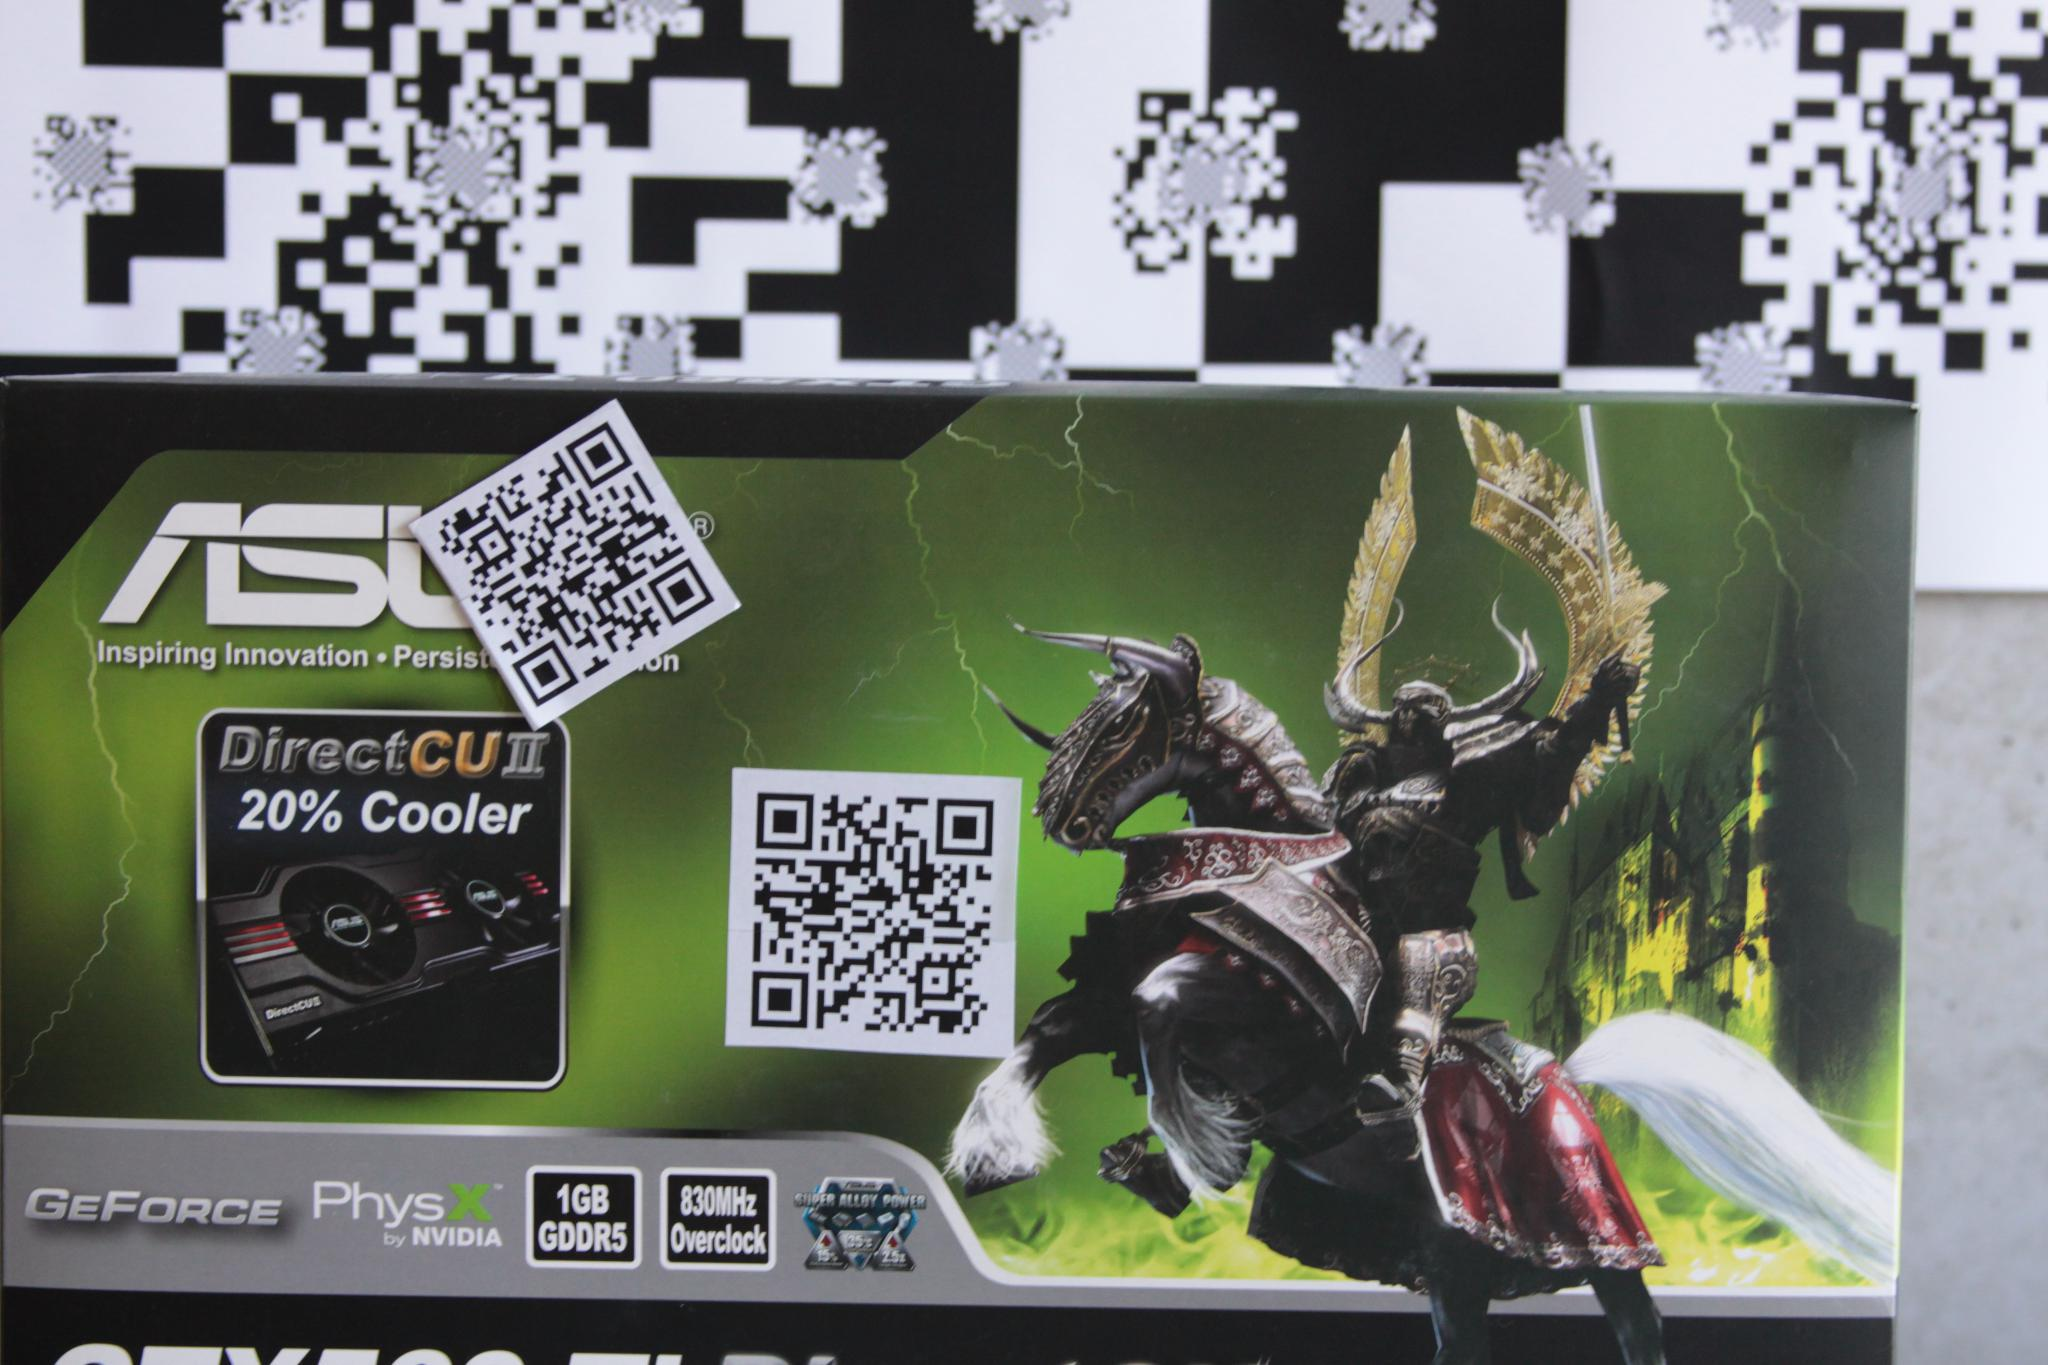Finder pattern: (742, 777, 825, 861), (734, 961, 821, 1041), (643, 542, 717, 631), (923, 789, 1003, 870), (506, 635, 588, 713), (560, 420, 635, 497)
